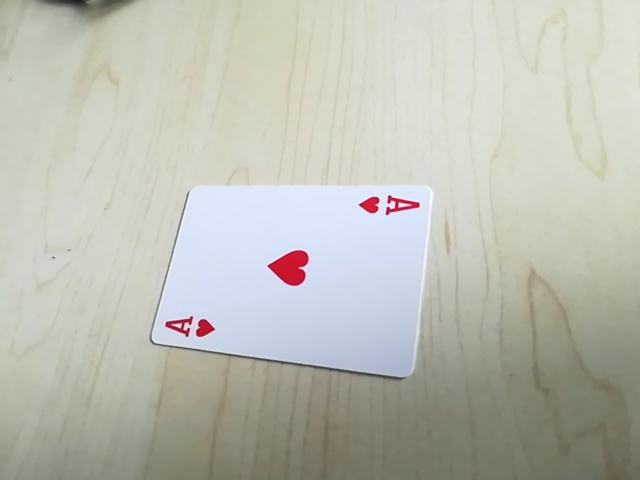hx a: (156, 309, 222, 345), (354, 189, 424, 222)
